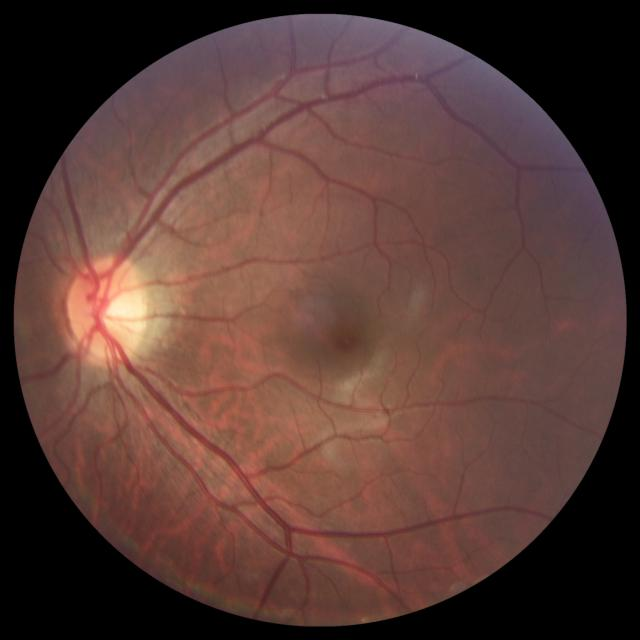OC: (96, 293, 132, 330)
OD: (67, 254, 146, 360)
